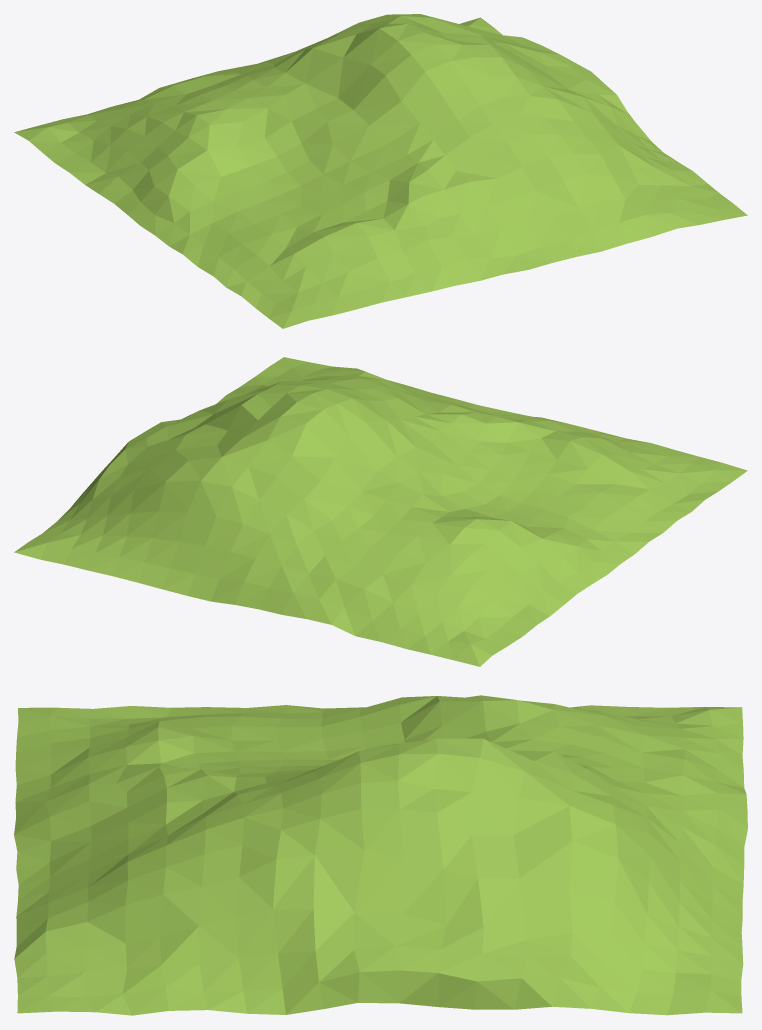
File: forestbiome-top.glb
The picture shows the model from 3 angles, top to bottom: view 1: azimuth 30°, elevation 25°; view 2: azimuth 150°, elevation 25°; view 3: azimuth 270°, elevation 25°; orthographic projection. The views are drawn at different scales.
Parts seen in each view (by area): view 1: Landscape.001; view 2: Landscape.001; view 3: Landscape.001.
Boxes of the visible parts, box(x1,y1,x2,y2) form: Landscape.001: box(14, 14, 747, 328); Landscape.001: box(14, 357, 747, 666); Landscape.001: box(14, 695, 747, 1015).
Bounding box in the file's own units: 2 × 0.4504 × 1.99.
1 material, 1 textured.
